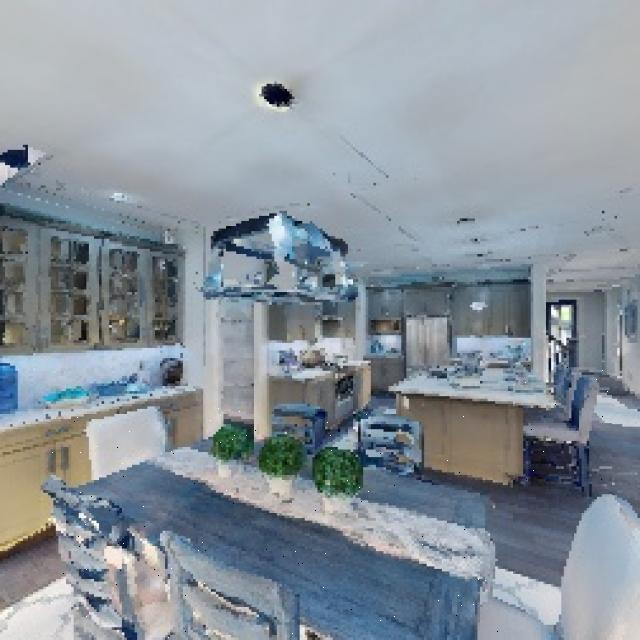chair: (515, 362, 612, 506)
table: (48, 406, 500, 640)
